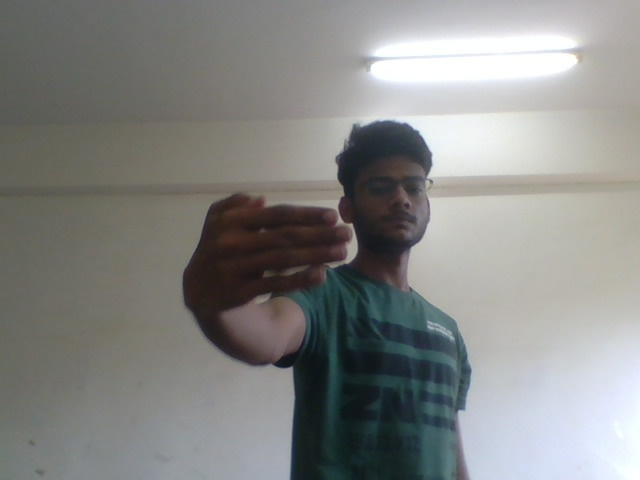Left: (178, 187, 359, 310)
